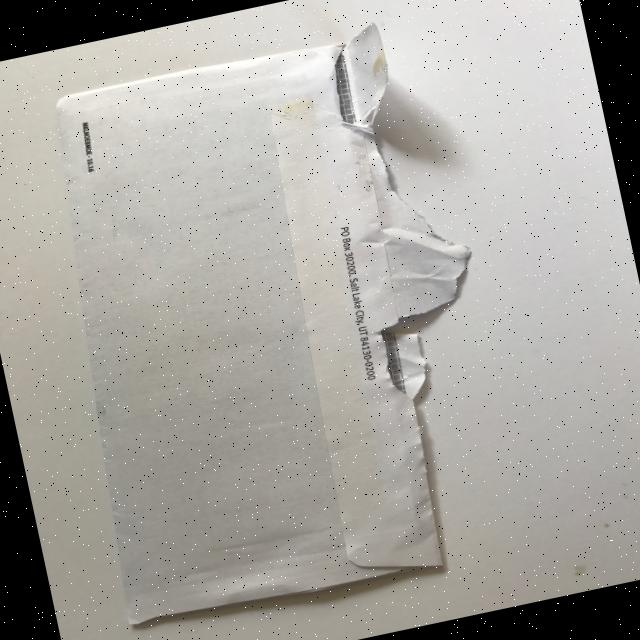paper: (17, 15, 524, 632)
